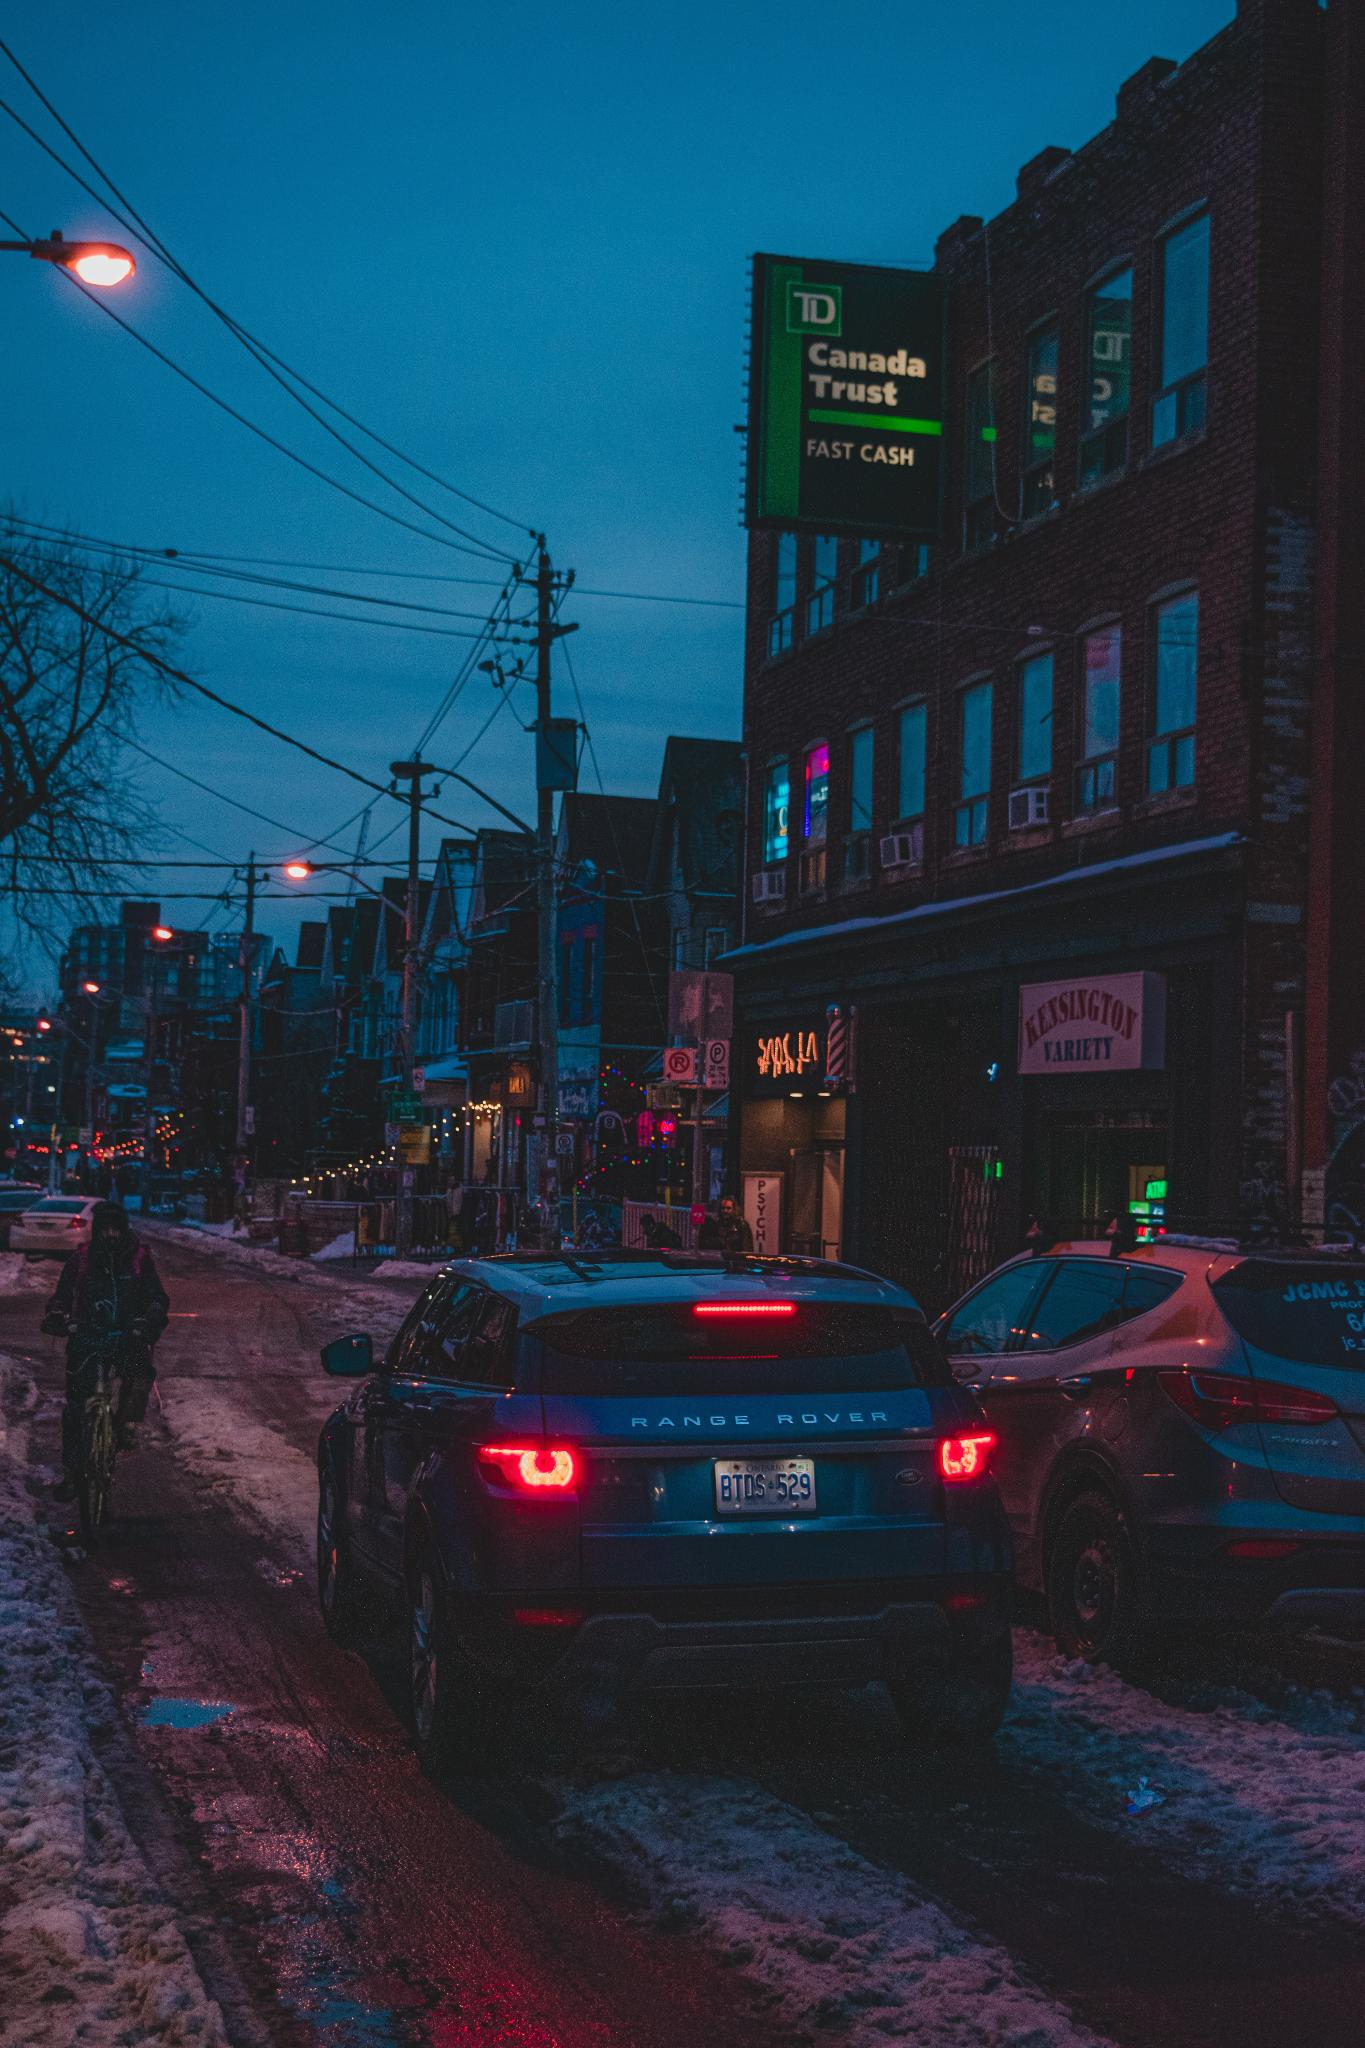range rover: (614, 1398, 906, 1456)
